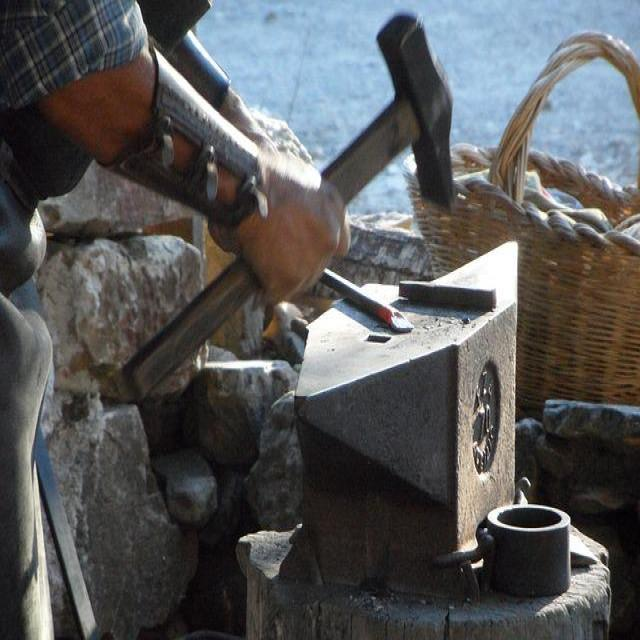hammer: (118, 3, 462, 416)
